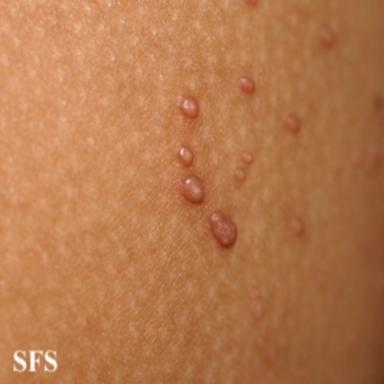Molluscum-Contagiosum: (209, 211, 237, 247), (182, 175, 204, 203), (181, 97, 199, 119), (319, 26, 335, 46), (178, 146, 193, 167), (239, 76, 255, 93), (284, 114, 299, 132), (289, 217, 303, 235), (234, 167, 246, 182), (241, 152, 253, 164)
